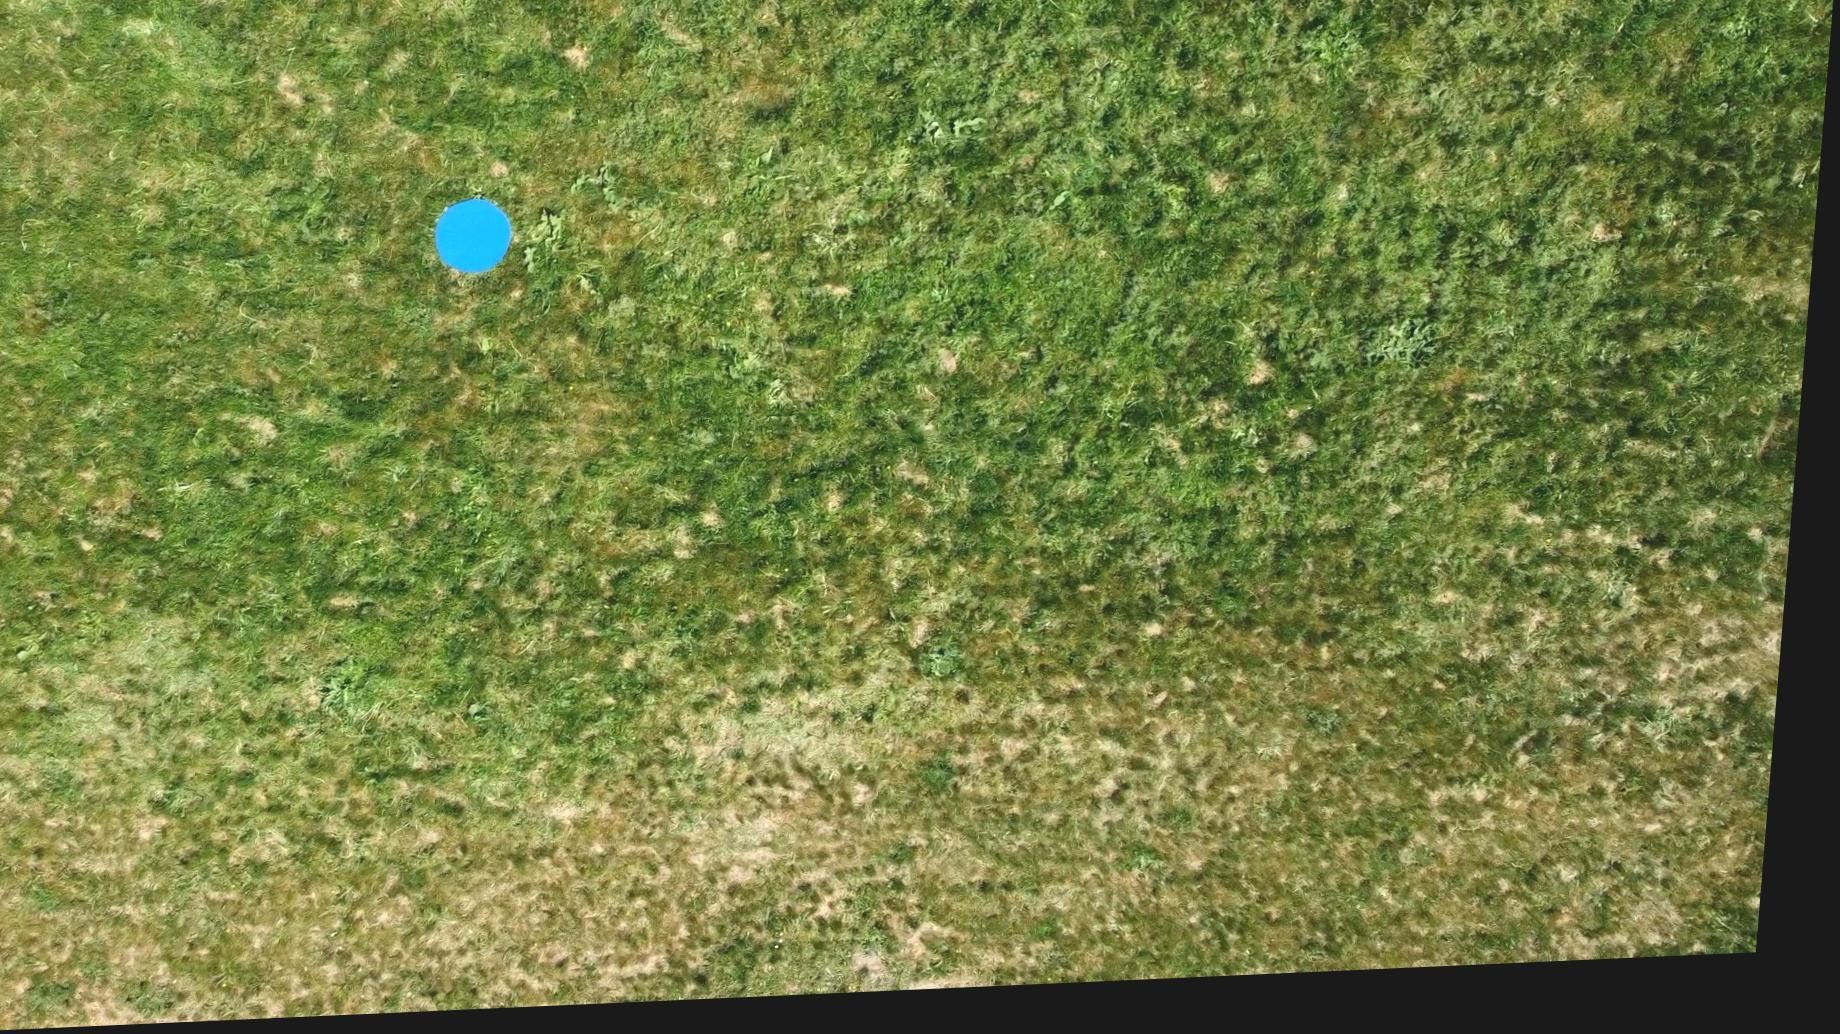Blue: (430, 197, 524, 282)
